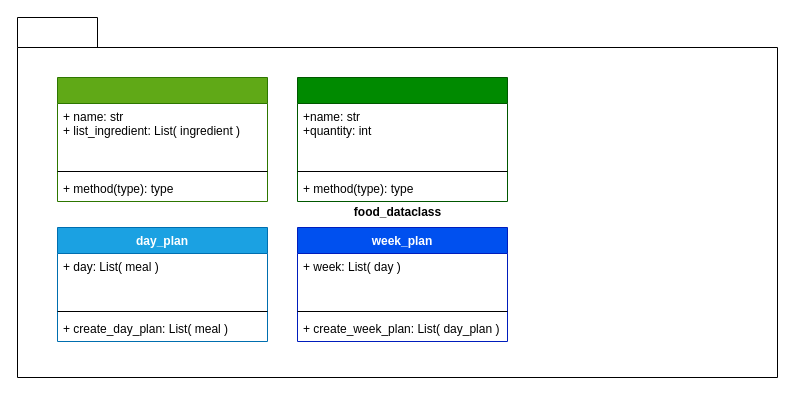
Image size: 795x395. Some labels were removed from this diagram. Each missing label, with the box of its shape:
ingredient: (296, 76, 508, 202)
meal: (56, 76, 268, 202)
